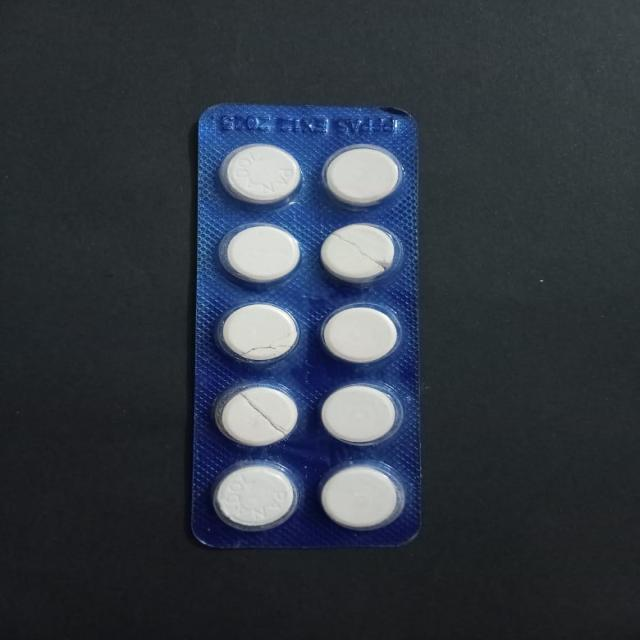defect: (315, 220, 400, 288), (217, 298, 301, 366), (215, 384, 302, 449)
